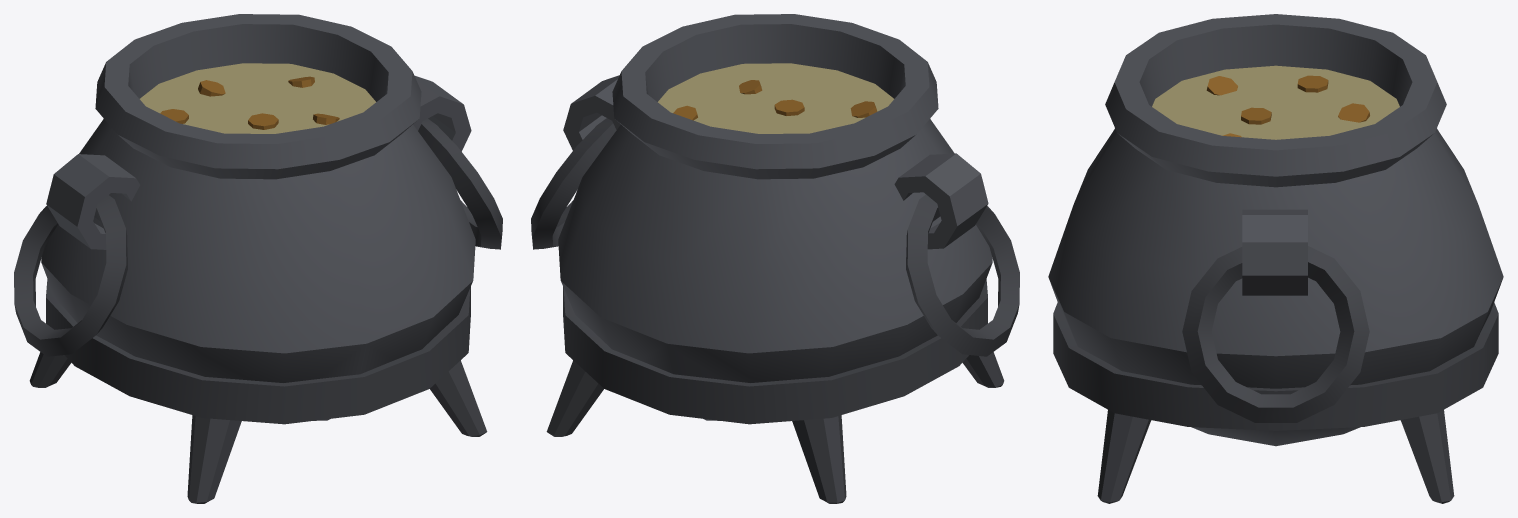
The model's file is b_cauldron.glb.
The picture shows the model from 3 angles, left to right: view 1: azimuth 30°, elevation 25°; view 2: azimuth 150°, elevation 25°; view 3: azimuth 270°, elevation 25°; orthographic projection. The views are drawn at different scales.
Visible parts, largest first — view 1: Cauldron; view 2: Cauldron; view 3: Cauldron.
Boxes of the visible parts, x1,y1,x2,y2 form: Cauldron: (14, 14, 502, 503); Cauldron: (531, 14, 1019, 503); Cauldron: (1048, 14, 1503, 503).
Size of the model in its own units: 0.3607 by 0.2518 by 0.2988.
